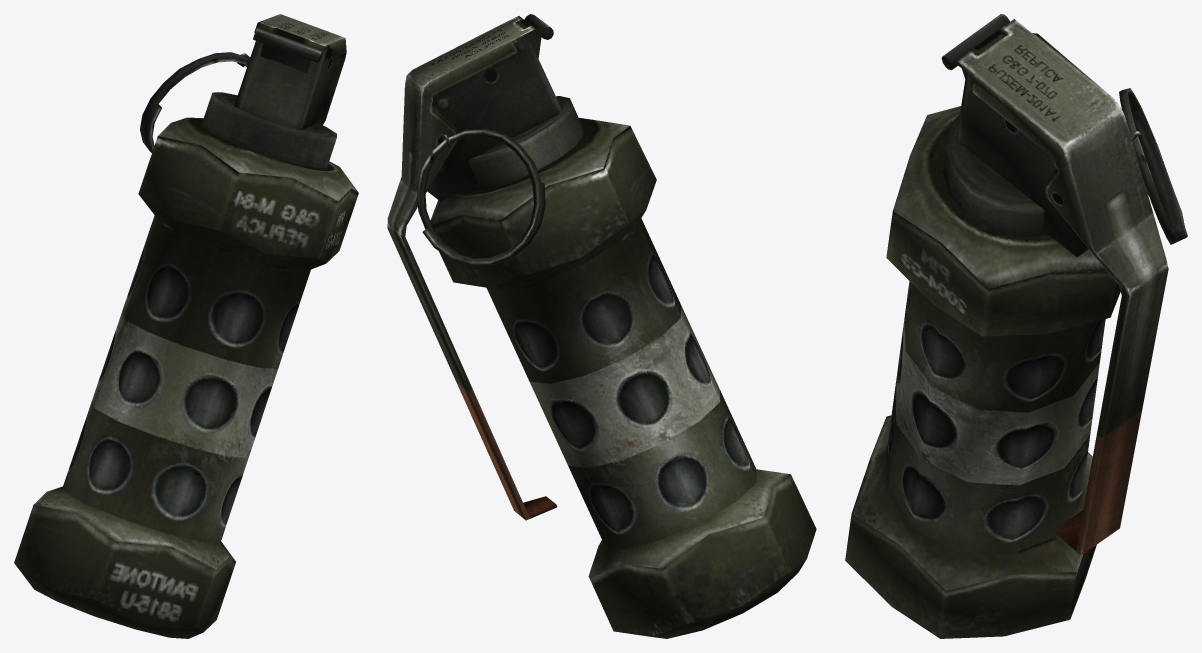
File: grenade_world.glb
3 renders of one model, left to right at view 1: azimuth 30°, elevation 25°; view 2: azimuth 150°, elevation 25°; view 3: azimuth 270°, elevation 25°, orthographic. The views are drawn at different scales.
Parts seen in each view (by area): view 1: weapon__model_0; view 2: weapon__model_0; view 3: weapon__model_0.
Boxes of the visible parts, <box> form: weapon__model_0: <box>14,14,358,638</box>; weapon__model_0: <box>387,14,816,638</box>; weapon__model_0: <box>845,14,1187,638</box>.
Size of the model in its own units: 0.1914 by 0.2922 by 0.1344.
Materials: 1 (1 with a texture image).
